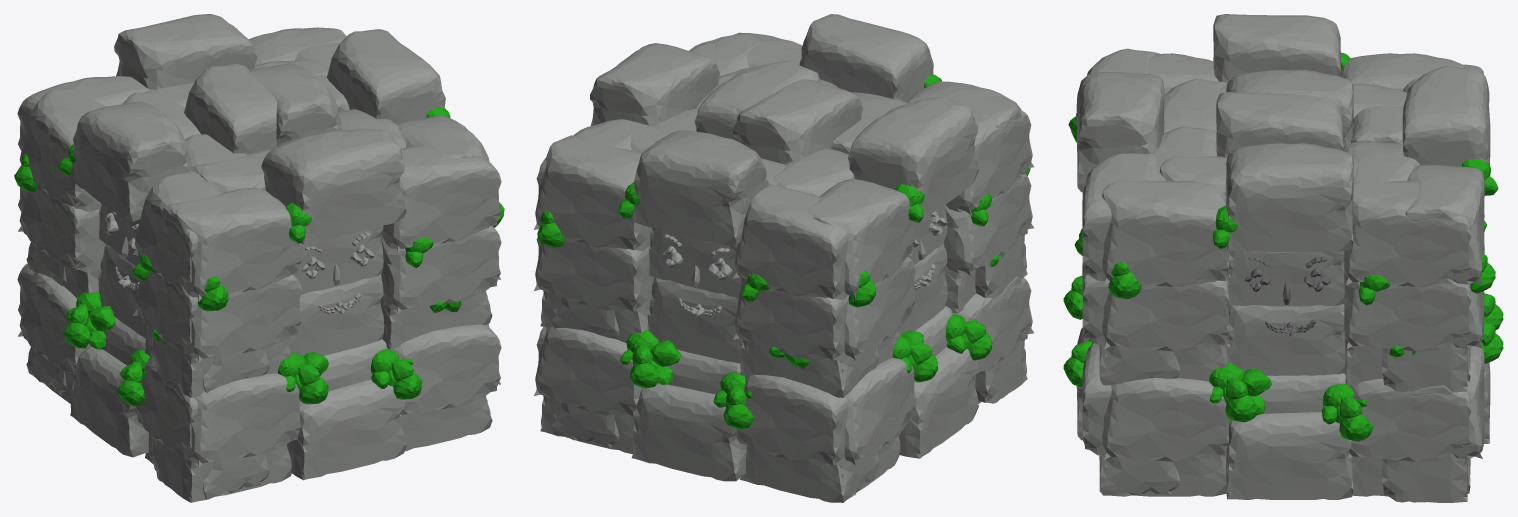
The model's file is StoneAgeTurret.fbx.
The picture shows the model from 3 angles, left to right: view 1: azimuth 30°, elevation 25°; view 2: azimuth 150°, elevation 25°; view 3: azimuth 270°, elevation 25°; orthographic projection. The views are drawn at different scales.
Visible parts, largest first — view 1: Cave.002; view 2: Cave.002; view 3: Cave.002.
Boxes of the visible parts, bbox=[...] form: Cave.002: bbox=[14, 14, 504, 502]; Cave.002: bbox=[534, 14, 1033, 502]; Cave.002: bbox=[1063, 14, 1503, 502].
Bounding box in the file's own units: 2157 × 1874 × 2248.
